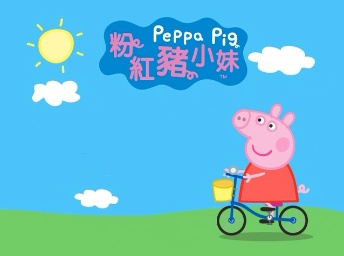Peppa: (232, 104, 299, 204)
